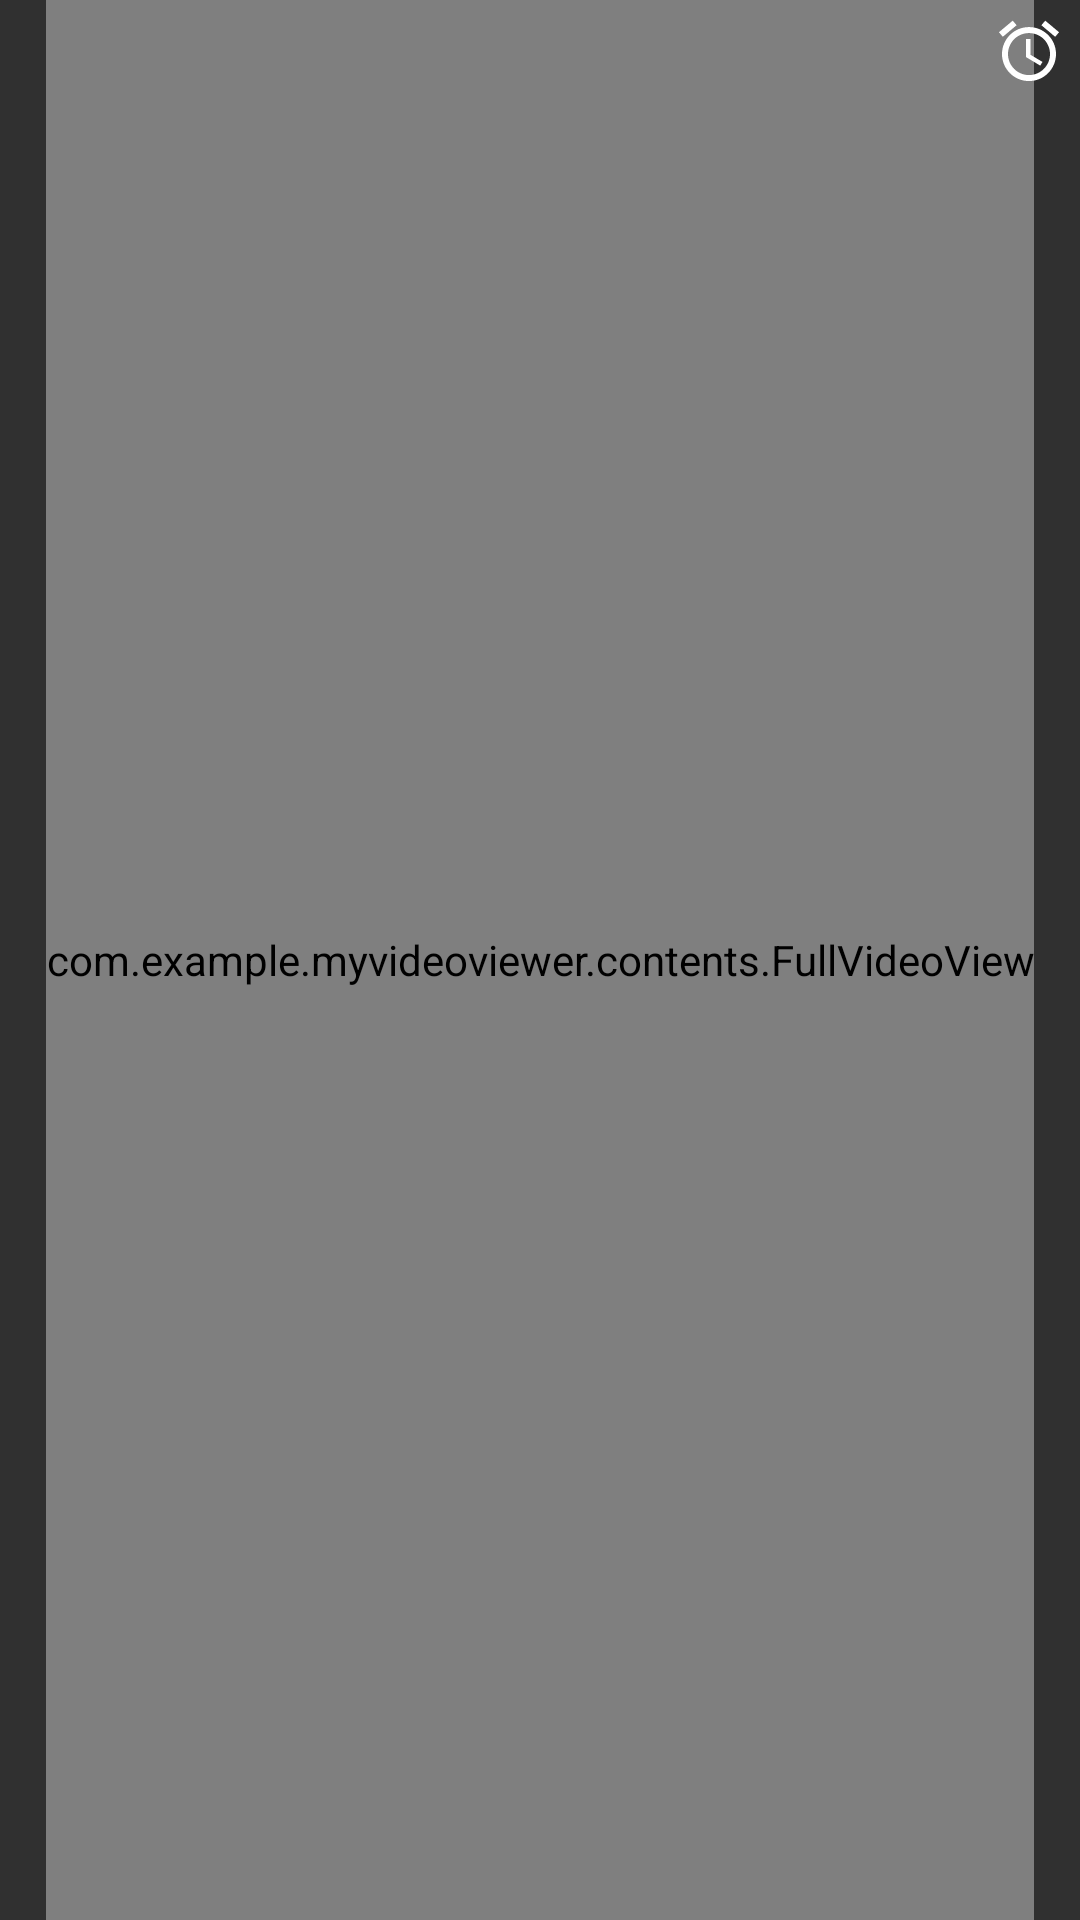

Screen size 1080px x 1920px. Icon name, then its center in pixels as [x,y]:
alarm: [1029,51]
